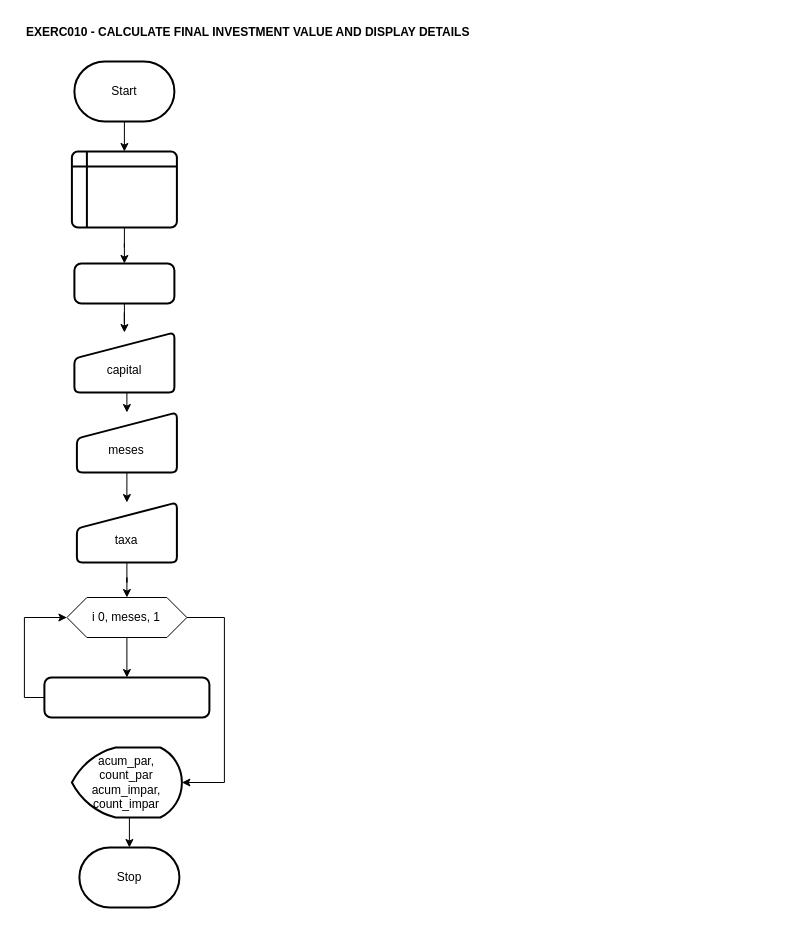
Some shapes in this 802 by 925 pixel diagram are drawn without their labels. Each missing label, with the centre of its shape:
capital meses taxa final: (x=123, y=189)
final = 0: (x=124, y=283)
final = final (final * taxa / 100): (x=126, y=697)
